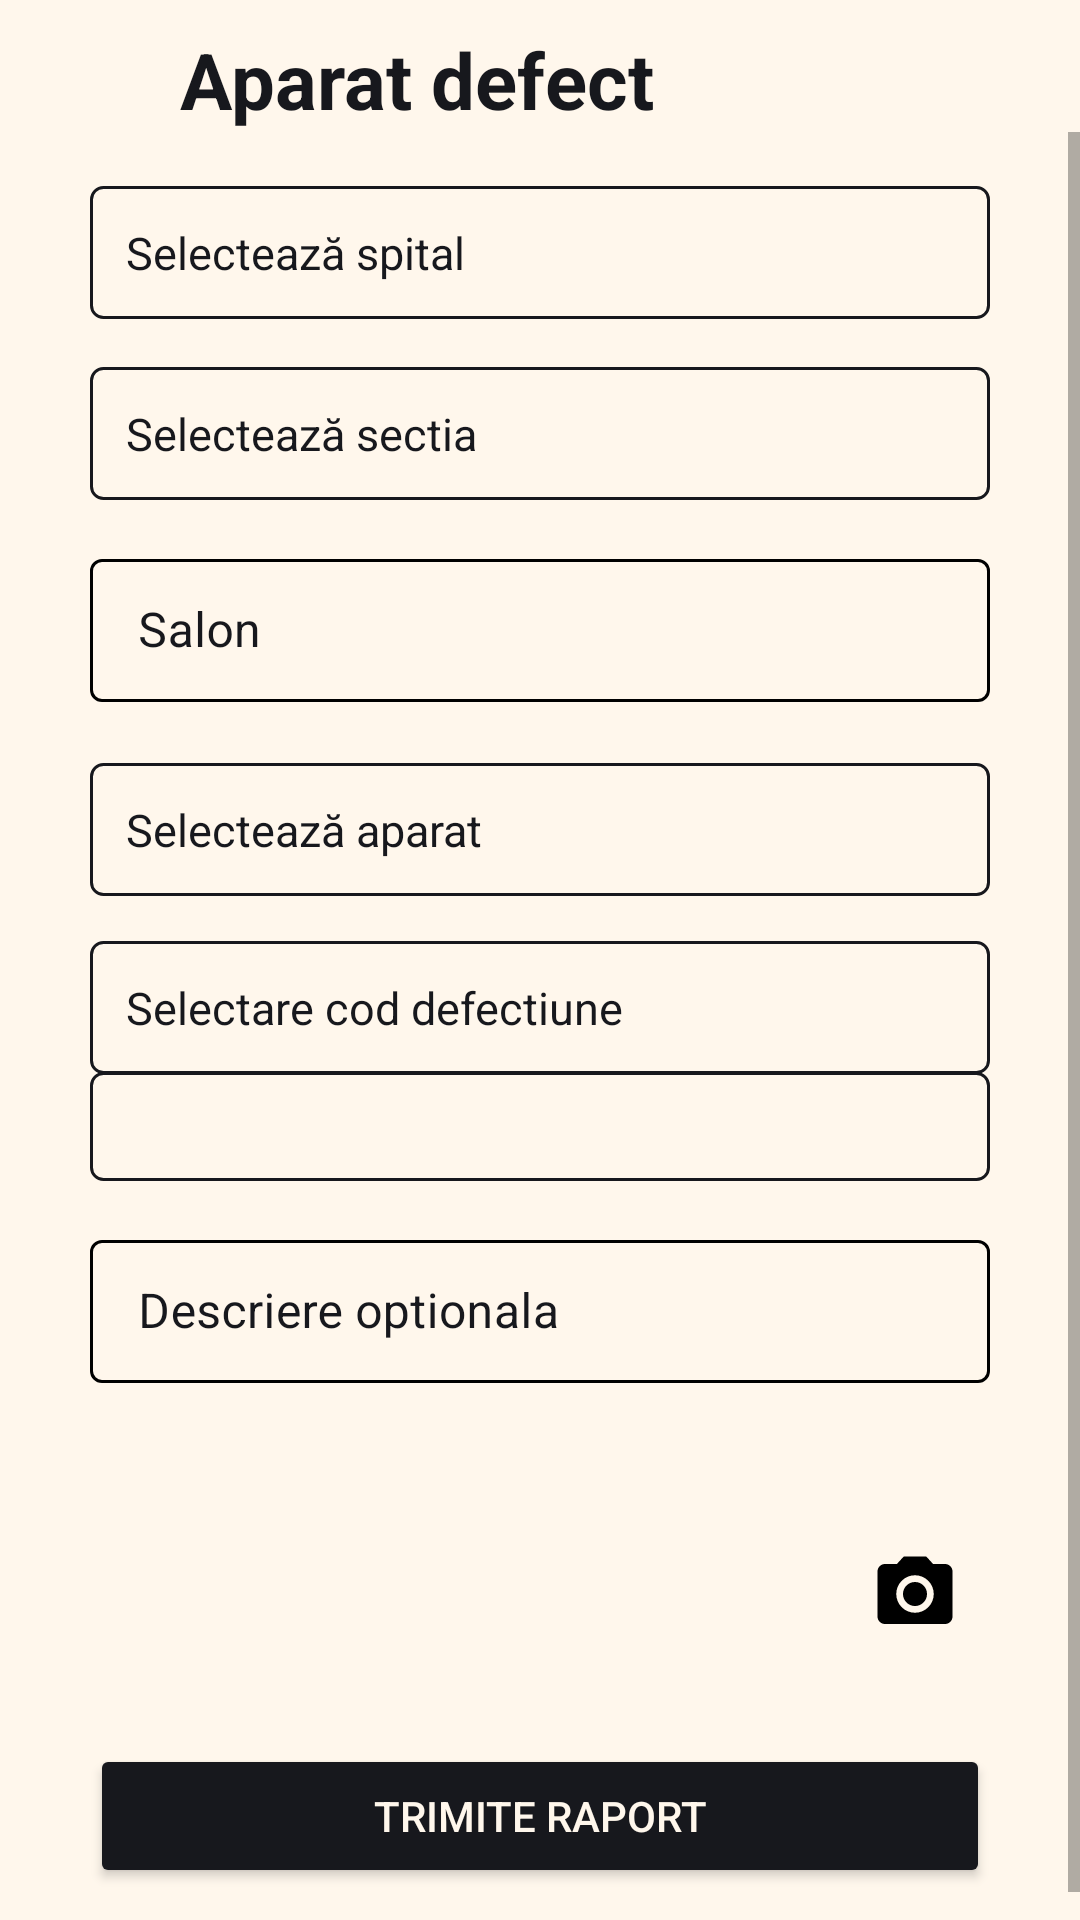

Icons on this 1080px x 1920px Android screen, each with the point to tap as [x,y]:
photo camera: [915,1590]
